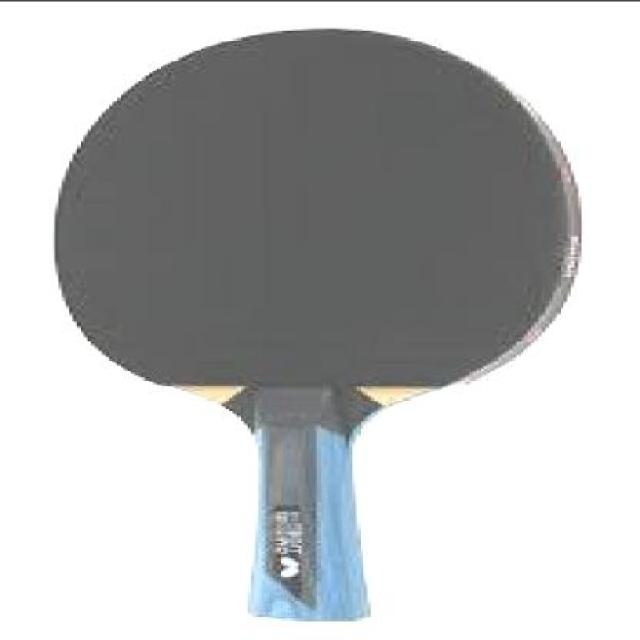table_tennis_racket: (47, 22, 591, 420)
